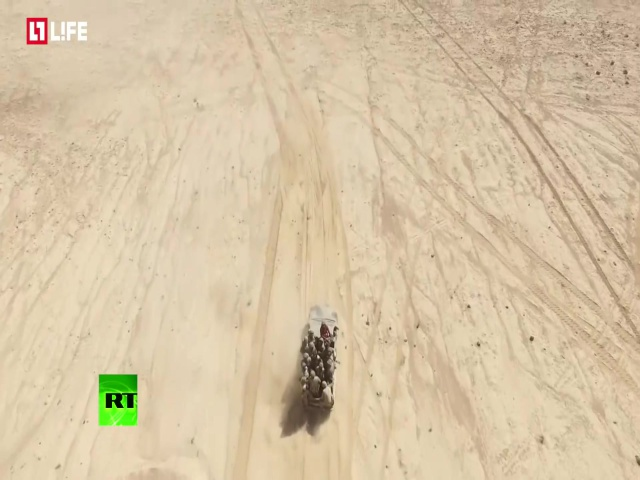vehicle: (300, 306, 340, 415)
